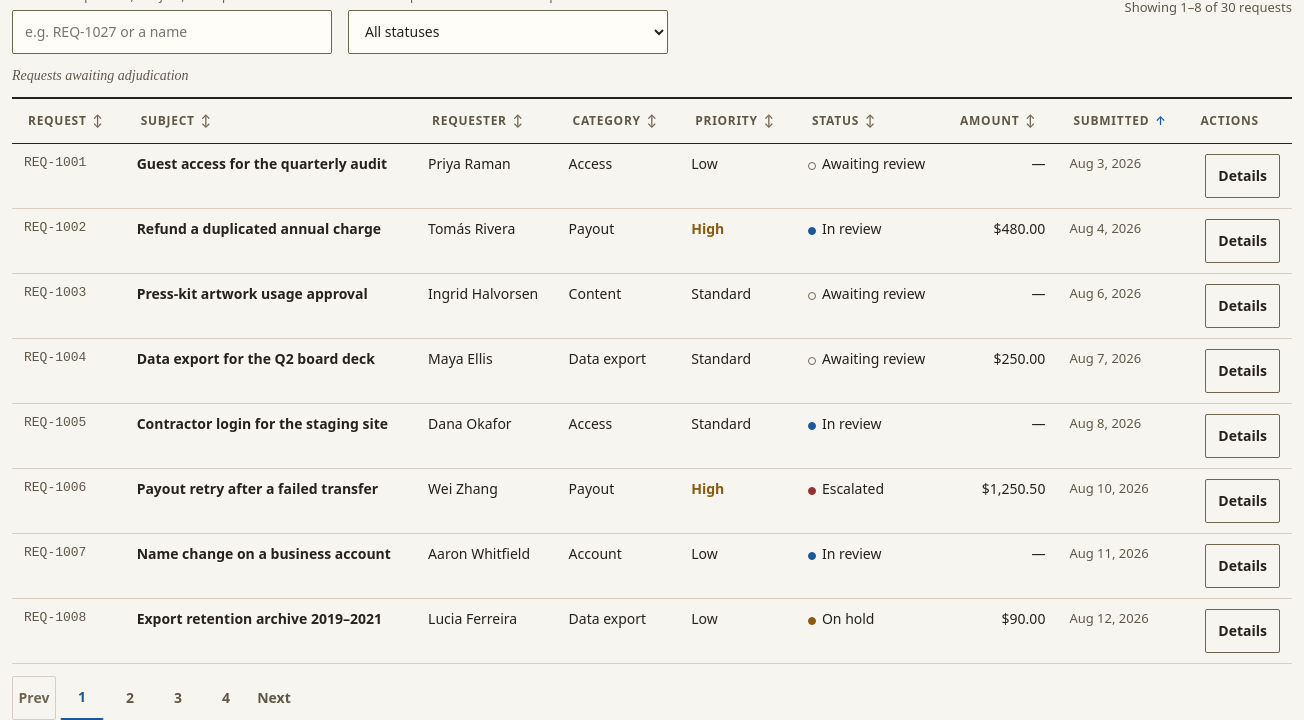
RequestQueue › paginates through pages and disables navigation at the bounds
(page scrolled)
Expected: the button with aria-label "Previous page" is disabled, top-left (12, 676), bottom-right (56, 719)
Expected: the button with aria-label "Next page" is enabled, top-left (252, 676), bottom-right (296, 719)
Click the button named "Page 2".
click(130, 698)  # box top-left (108, 676), bottom-right (152, 719)
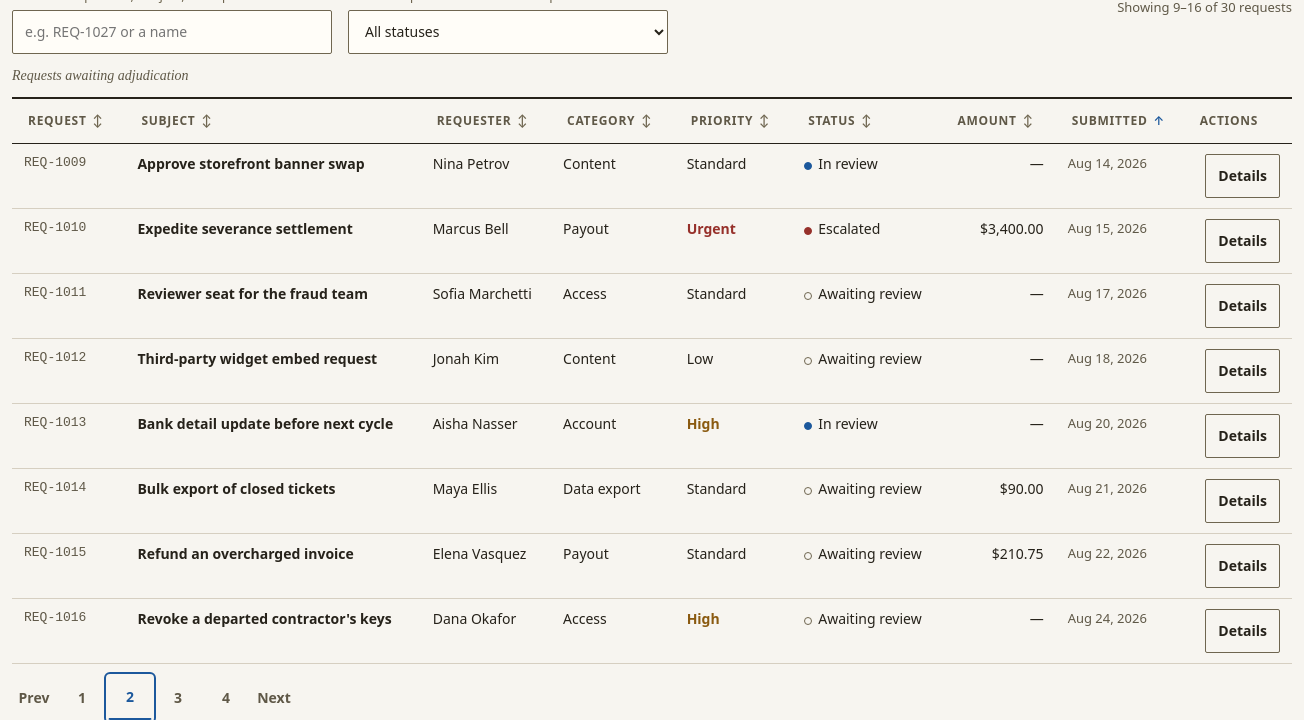
Now the text "REQ-1009" is shown, box top-left (12, 144), bottom-right (126, 209)
Click the button named "Page 4".
click(226, 698)  # box top-left (204, 676), bottom-right (248, 719)
(page scrolled)
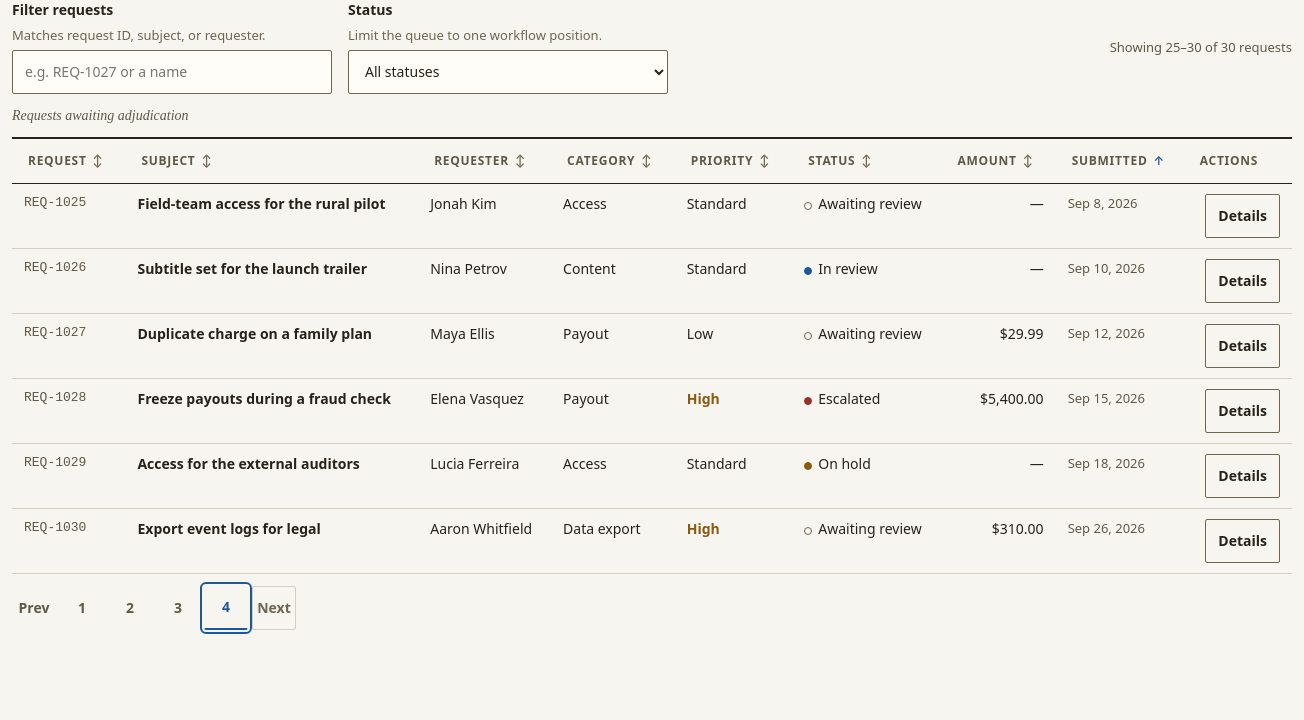
Now the button with aria-label "Previous page" is enabled, box top-left (12, 586), bottom-right (56, 630)
Now the text "Showing 25–30 of 30 requests" is shown, box top-left (1110, 38), bottom-right (1292, 56)
Now the button with aria-label "Next page" is disabled, box top-left (252, 586), bottom-right (296, 630)
